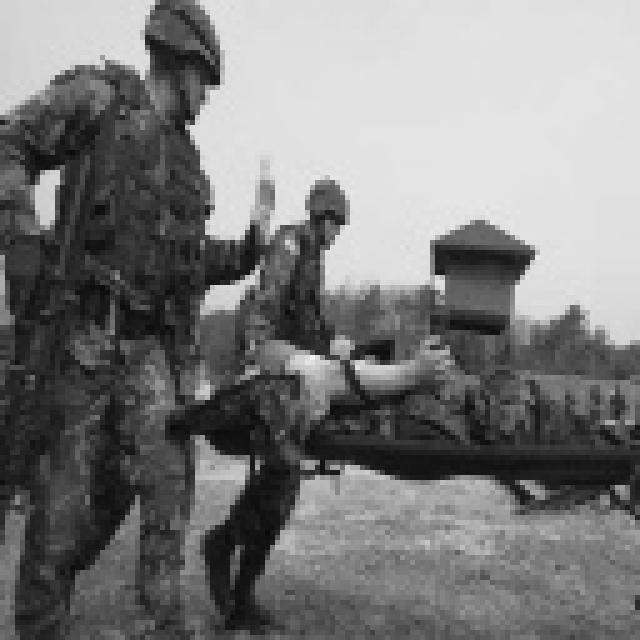Rifle: (0, 130, 115, 550)
